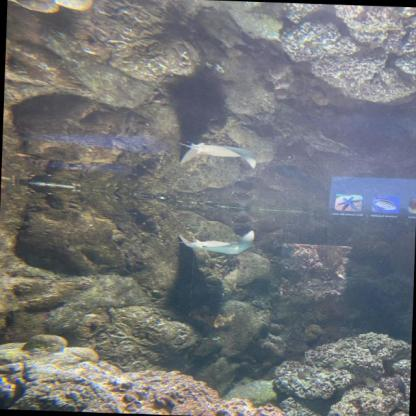stingray: (178, 227, 255, 255), (180, 142, 258, 168)
